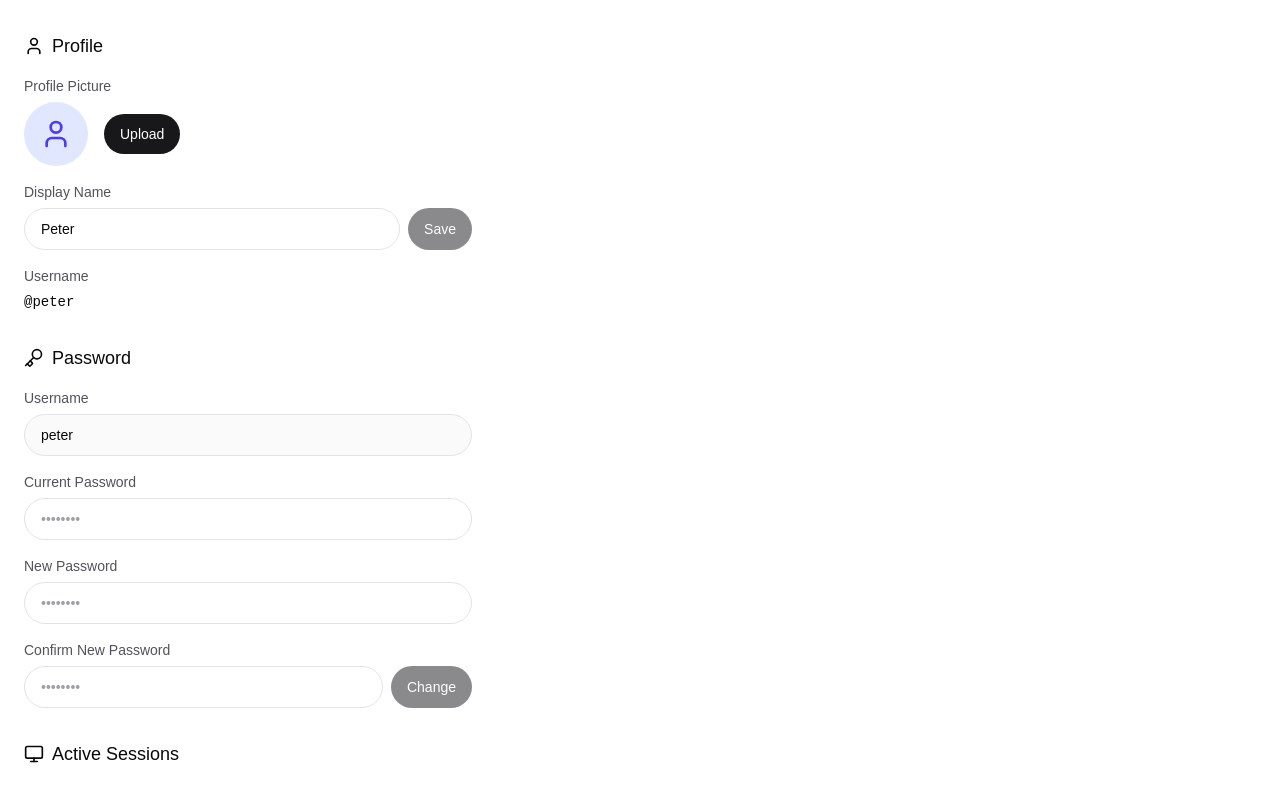
Test: SettingsSection › changes the password and clears the fields on success
The image size is (1280, 800).
Type "old-pass" into the password field labelled "Current Password".
click(248, 519); type("old-pass")  # box top-left (24, 498), bottom-right (472, 540)
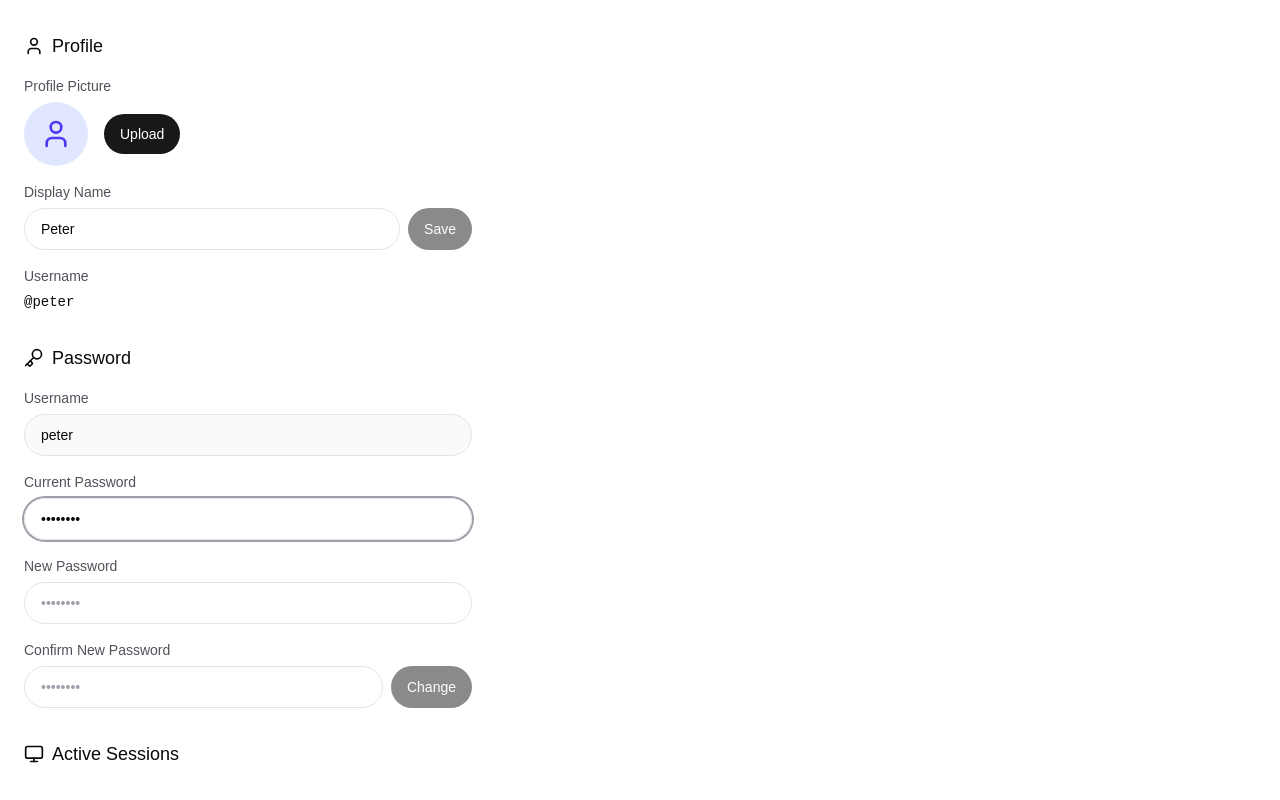
Type "new-pass" into the password field labelled "New Password".
click(248, 603); type("new-pass")  # box top-left (24, 582), bottom-right (472, 624)
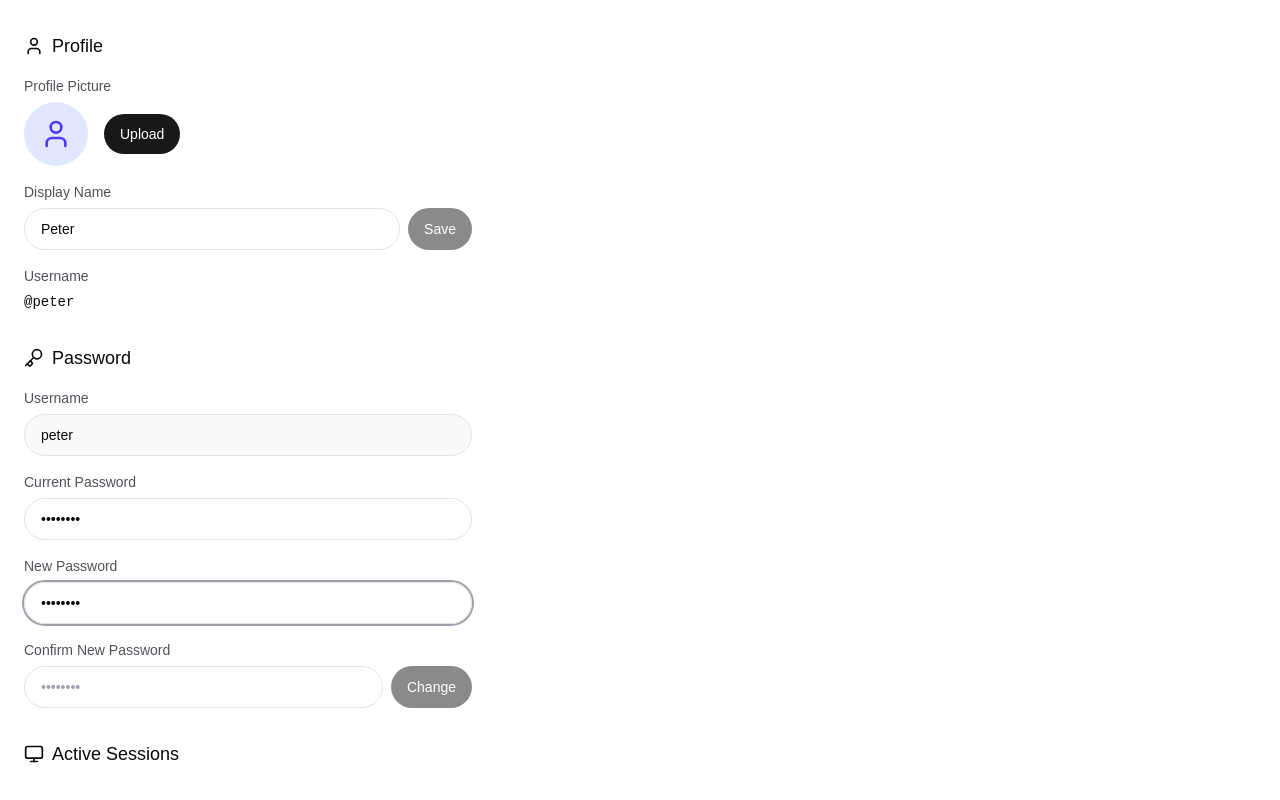
Type "new-pass" into the password field labelled "Confirm New Password".
click(204, 687); type("new-pass")  # box top-left (24, 666), bottom-right (383, 708)
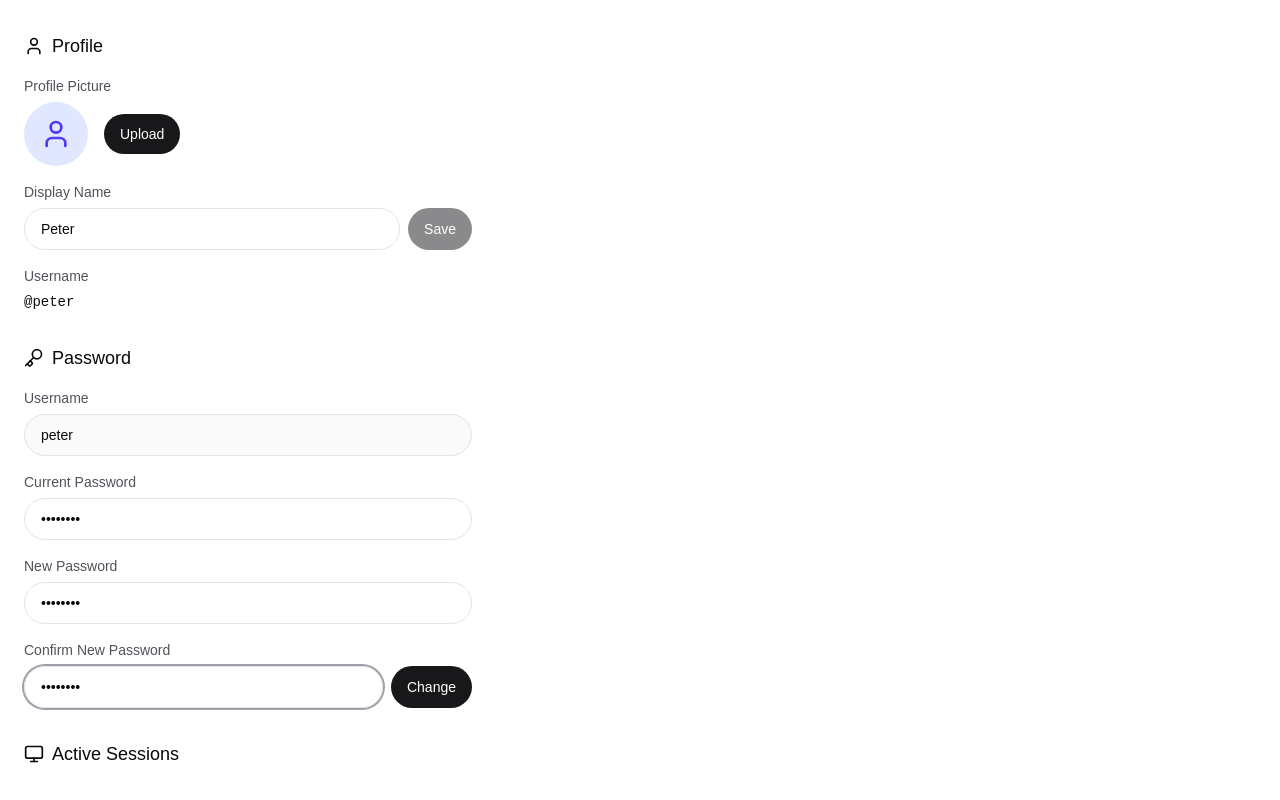
Click the button "Change".
click(432, 687)  # box top-left (391, 666), bottom-right (472, 708)
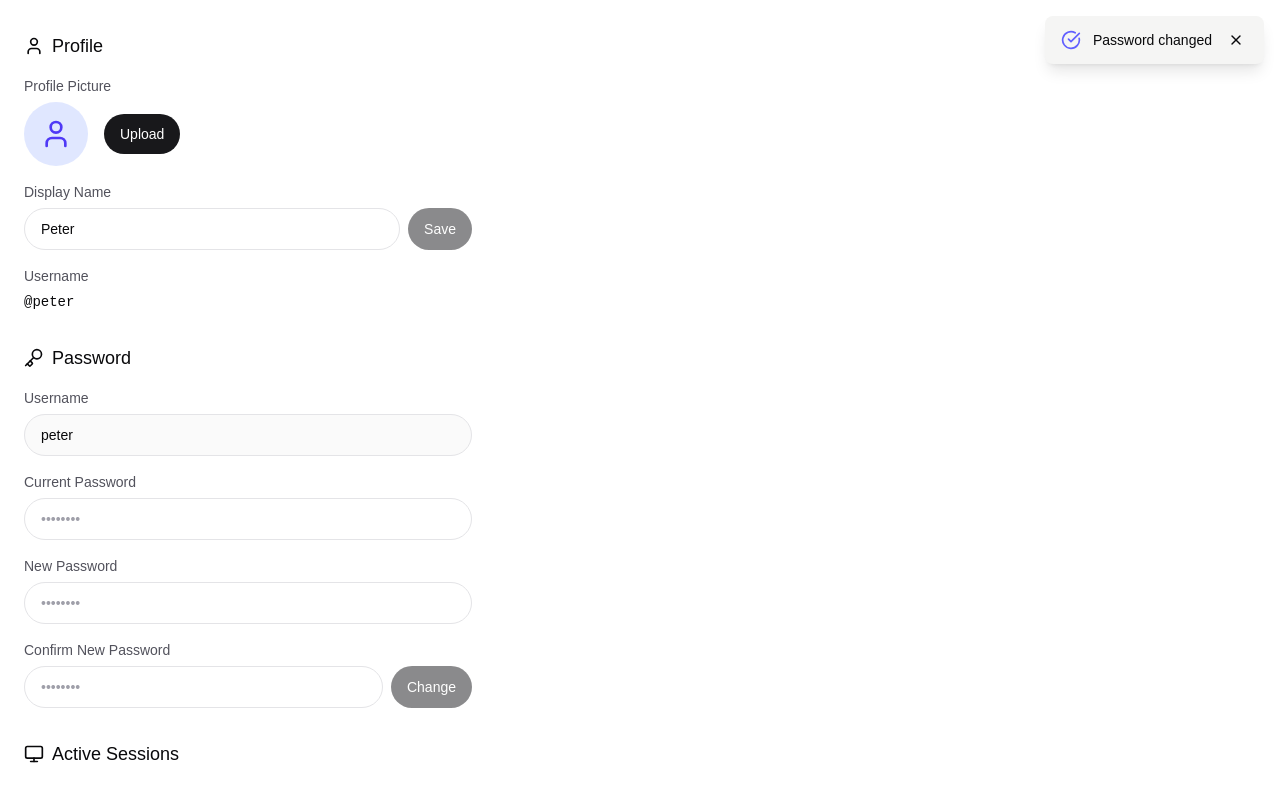
Expected: the text "Password changed" is shown, top-left (1093, 30), bottom-right (1212, 50)
Expected: the password field labelled "Current Password" is empty, top-left (24, 498), bottom-right (472, 540)
Expected: the password field labelled "New Password" is empty, top-left (24, 582), bottom-right (472, 624)
